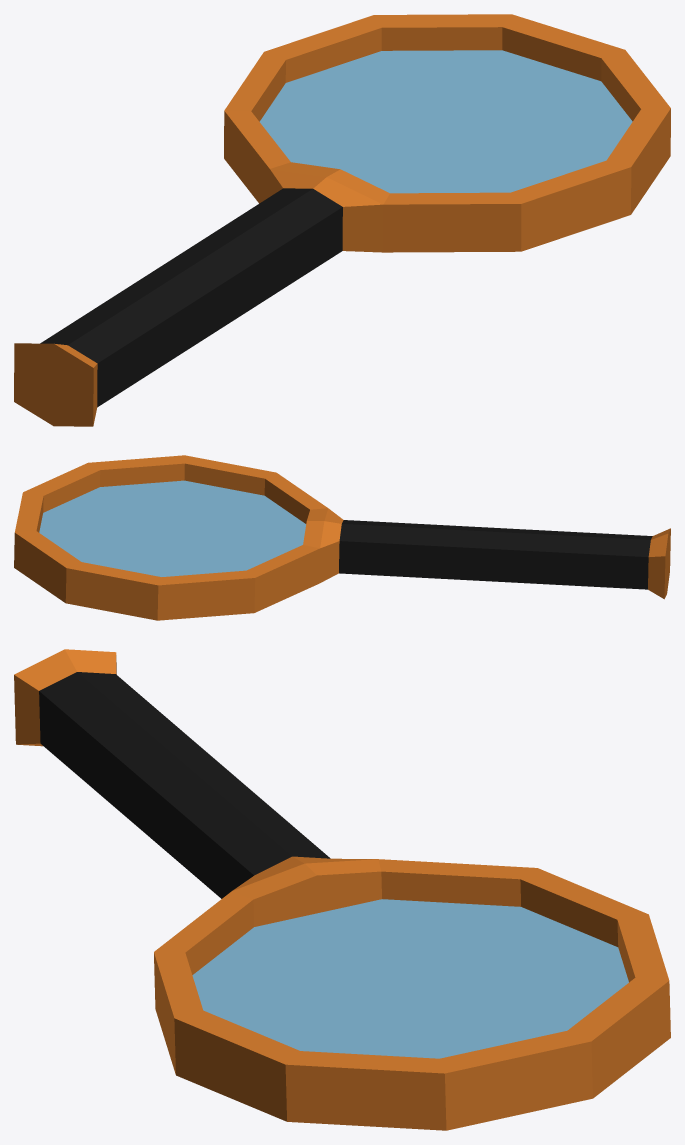
The model's file is magnifier.fbx.
3 views of the same model, one above another, from view 1: azimuth 30°, elevation 25°; view 2: azimuth 150°, elevation 25°; view 3: azimuth 270°, elevation 25° (orthographic). The views are drawn at different scales.
Visible parts, largest first — view 1: magnifier; view 2: magnifier; view 3: magnifier.
Part boxes in pixels (bbox=[...]): magnifier: bbox=[14, 14, 670, 426]; magnifier: bbox=[14, 455, 670, 620]; magnifier: bbox=[14, 649, 670, 1130].
Size of the model in its own units: 22.52 by 2.4 by 14.52.
